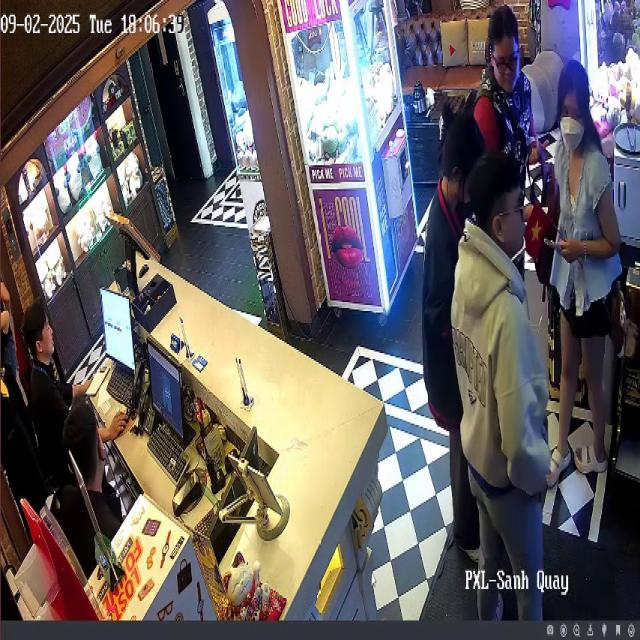khach: (461, 142, 567, 614), (415, 80, 505, 578), (546, 45, 618, 507), (469, 0, 540, 231)
nhan vien: (66, 387, 131, 585), (20, 295, 72, 494)
